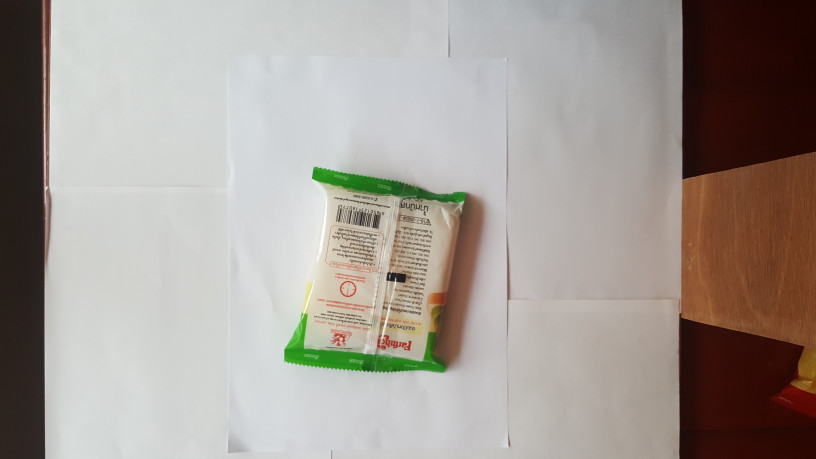farmhouse-bread-pandan: (272, 159, 477, 370)
